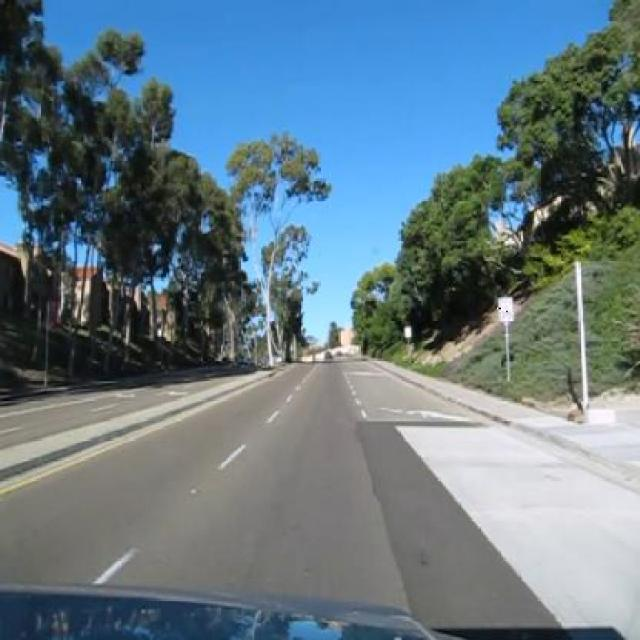speedLimit35: (497, 294, 514, 321)
